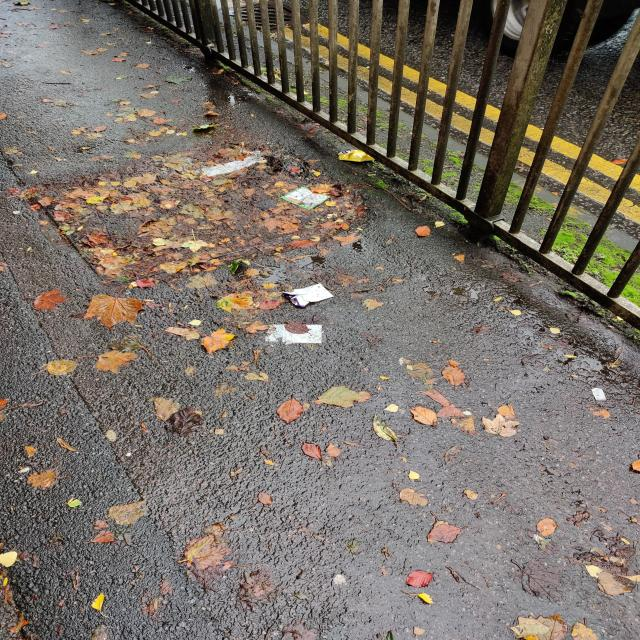litter: (262, 281, 345, 353), (200, 149, 265, 178), (279, 185, 332, 211), (337, 148, 379, 164)
